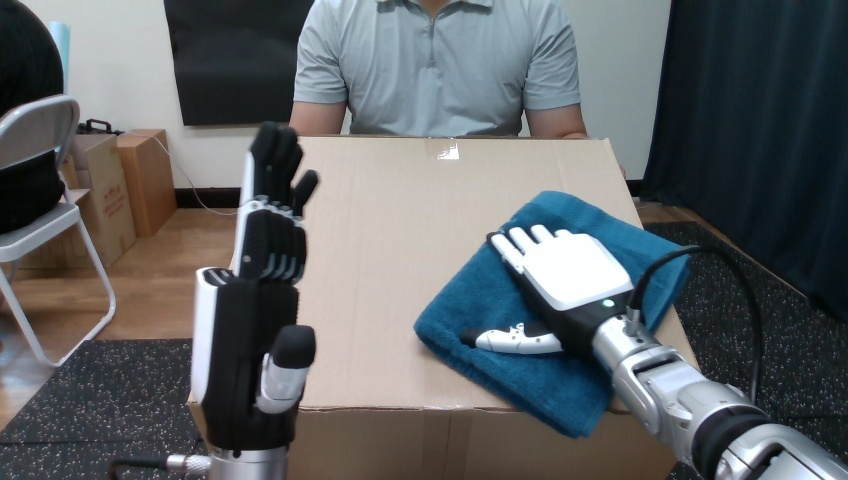left robot hand: (464, 226, 847, 478), (143, 122, 317, 479)
